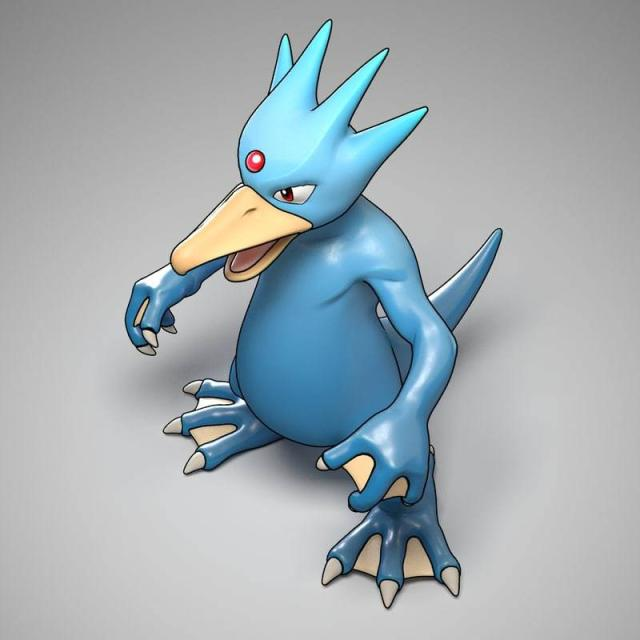Golduck: (160, 26, 468, 602)
